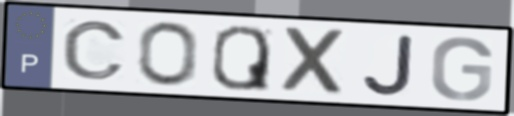C: (59, 18, 128, 82)
G: (427, 35, 496, 103)
J: (359, 32, 418, 99)
O: (136, 19, 201, 89)
Q: (209, 23, 273, 93)
X: (281, 24, 351, 98)
